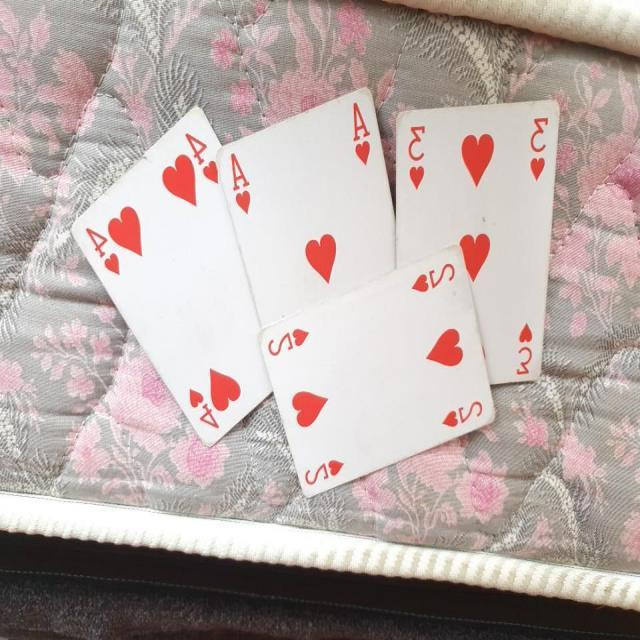2 of hearts: (253, 238, 507, 502)
3 of hearts: (390, 98, 568, 390)
4 of hearts: (66, 98, 279, 456)
ace of hearts: (216, 78, 406, 401)
